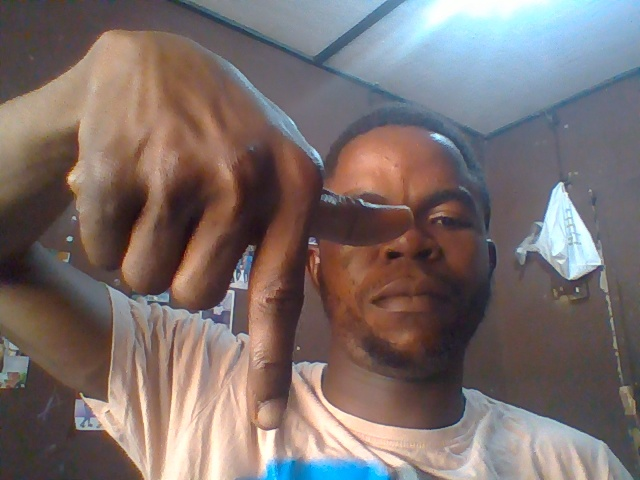Down: (67, 21, 420, 440)
